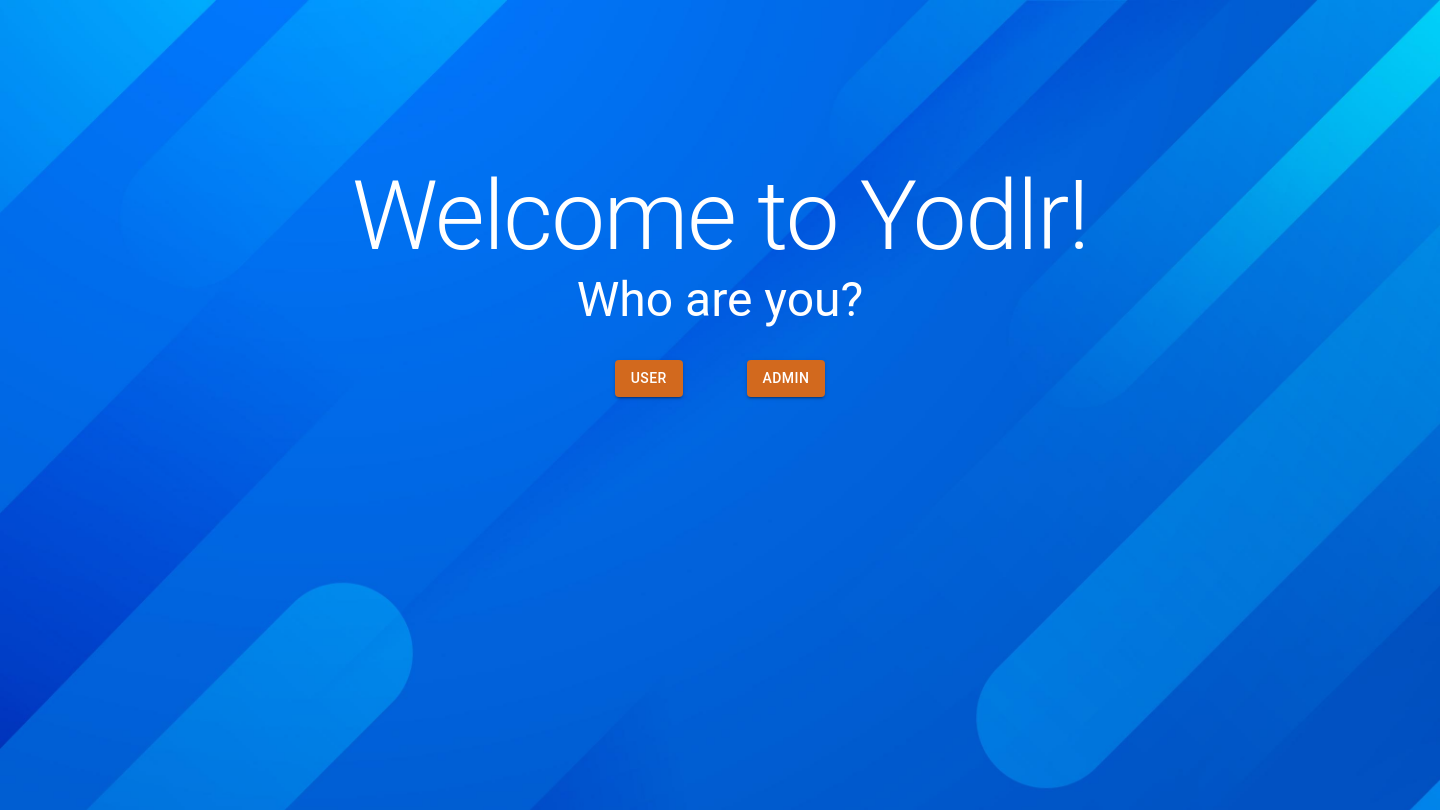
Scenario: handles button click for user
Expected: the text "Yodlr Registration Portal" is not shown
Click the link "User" at (649, 378), box [615,360,683,396]
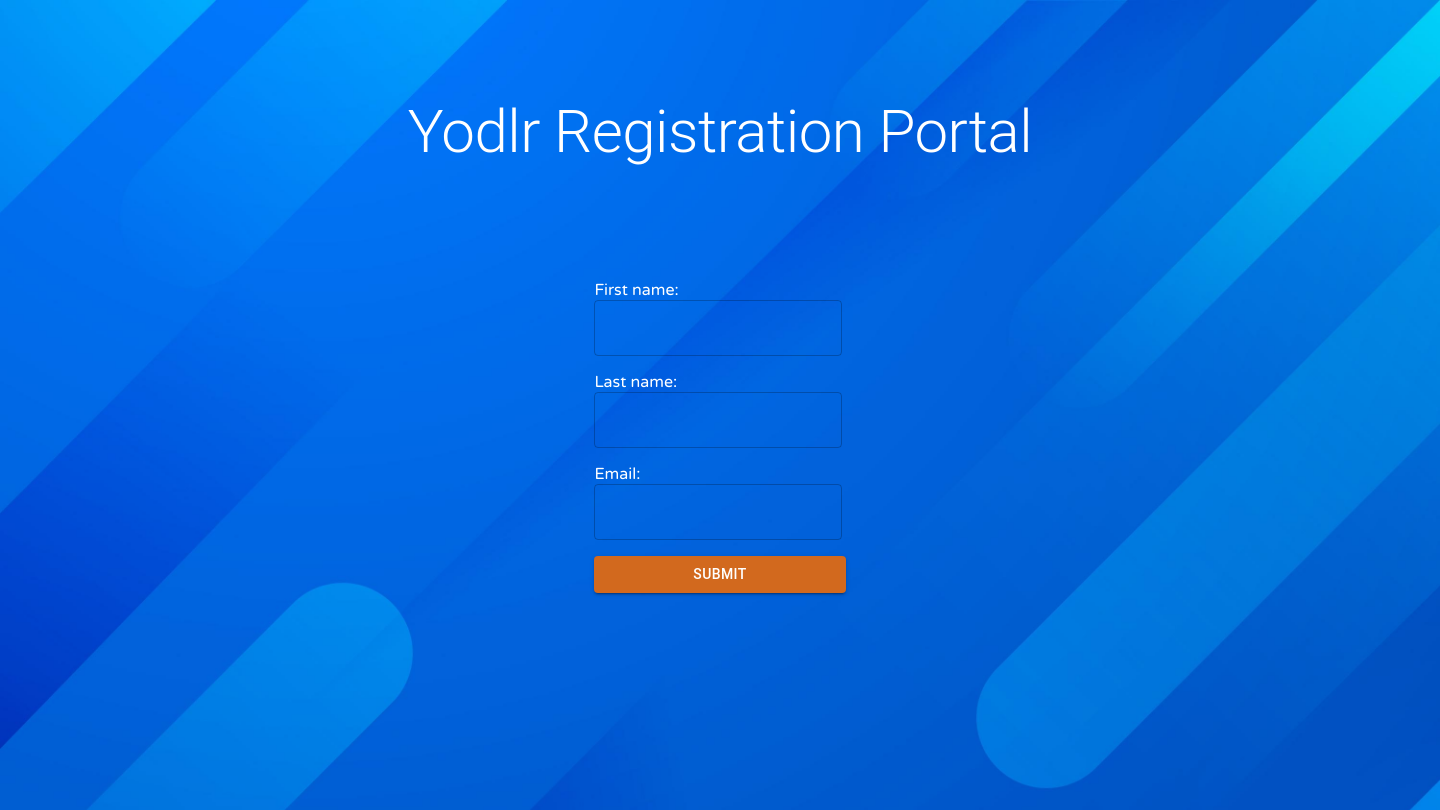
Expected: the heading "Yodlr Registration Portal" is shown, [408,96,1032,168]
